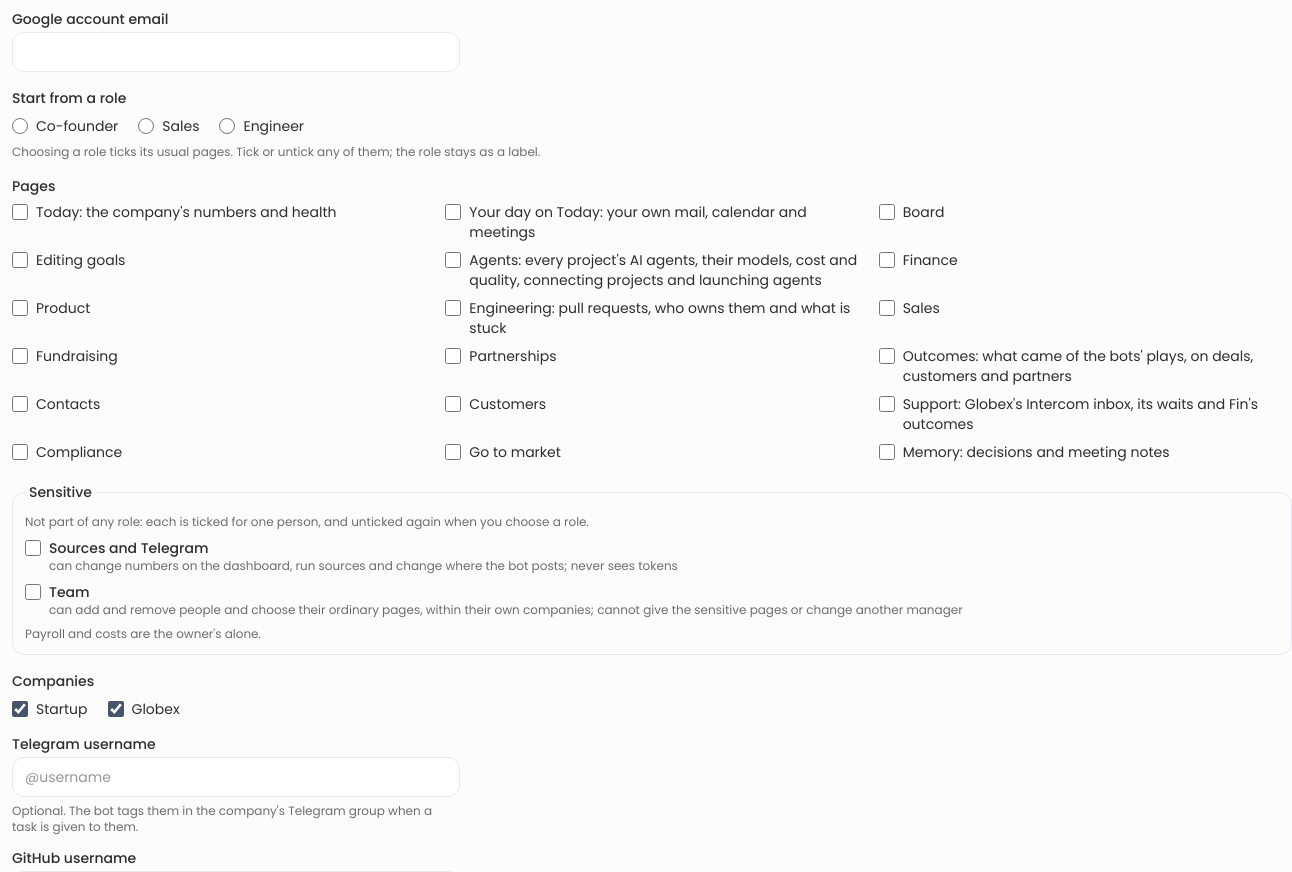
Test: AddTeammate › a ticked page that will be empty for the chosen companies is named, and goes when it no longer is
Click the radio button labelled "Co-founder".
click(20, 126)  # box [12,118,28,134]
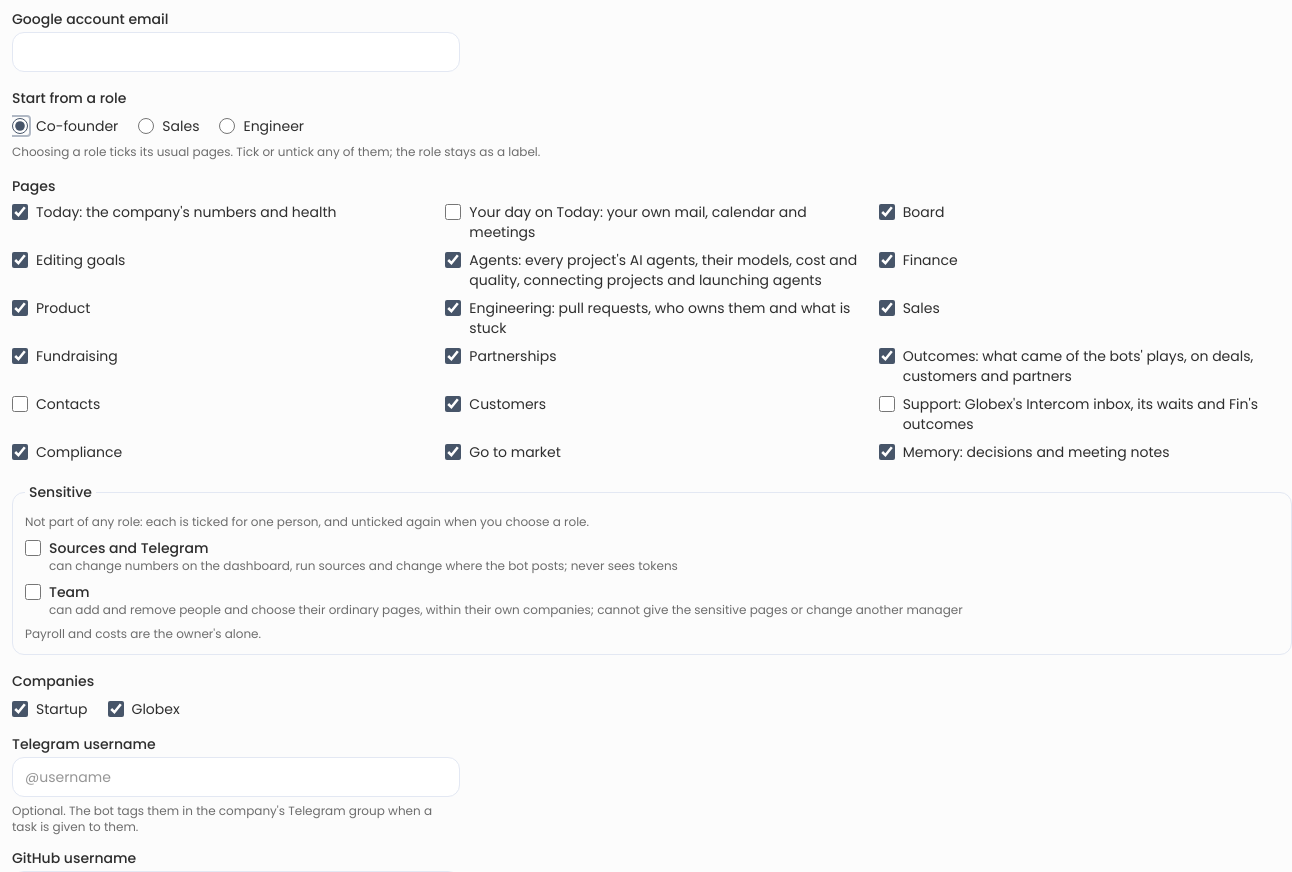
Expected: the text "Empty for someone" is not shown
Click the checkbox labelled "Startup".
click(20, 709)  # box [12,701,28,717]
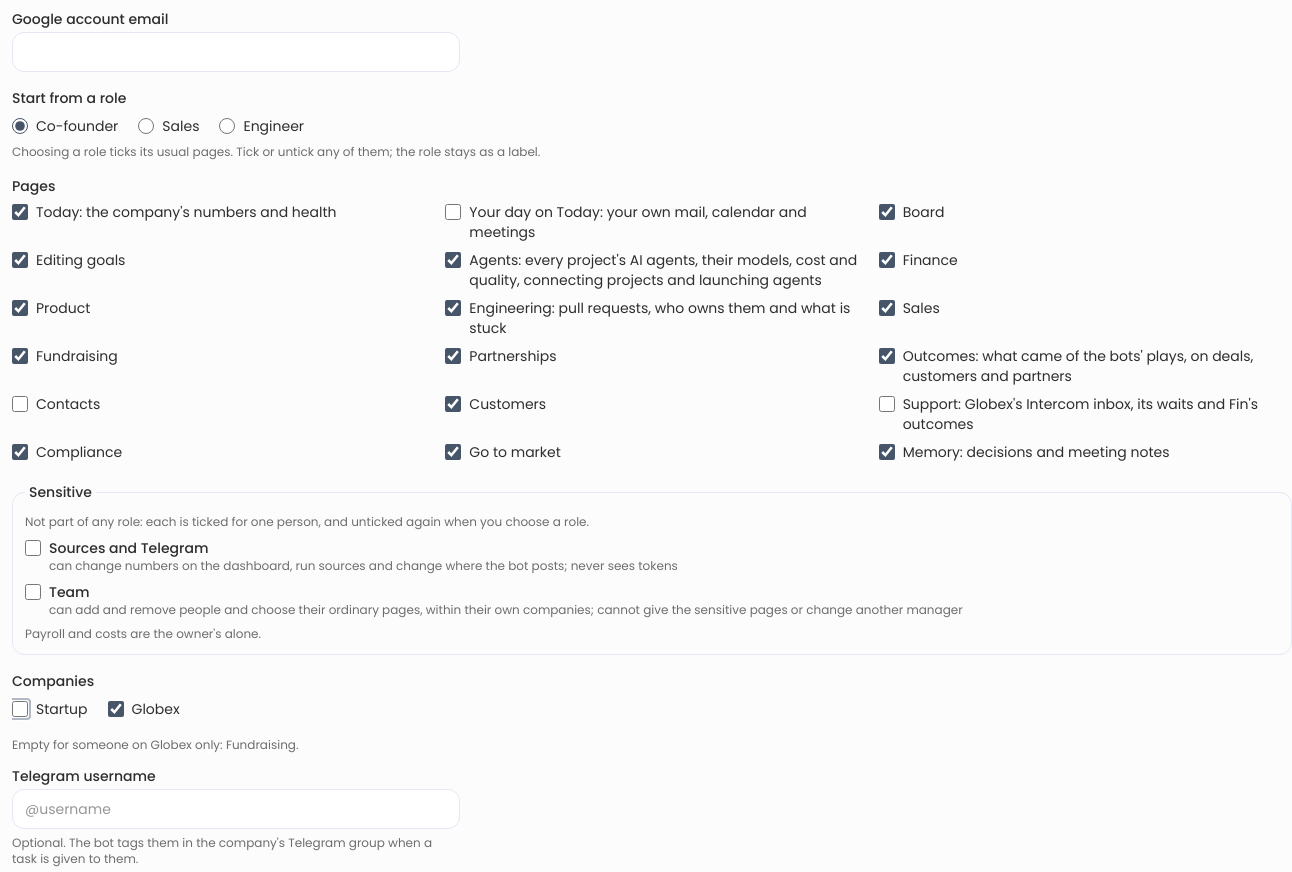
Result: the text "Empty for someone on Globex only: Fundraising." is shown at [12,736,298,753]
Click the checkbox labelled "Fundraising".
click(20, 356)  # box [12,348,28,364]
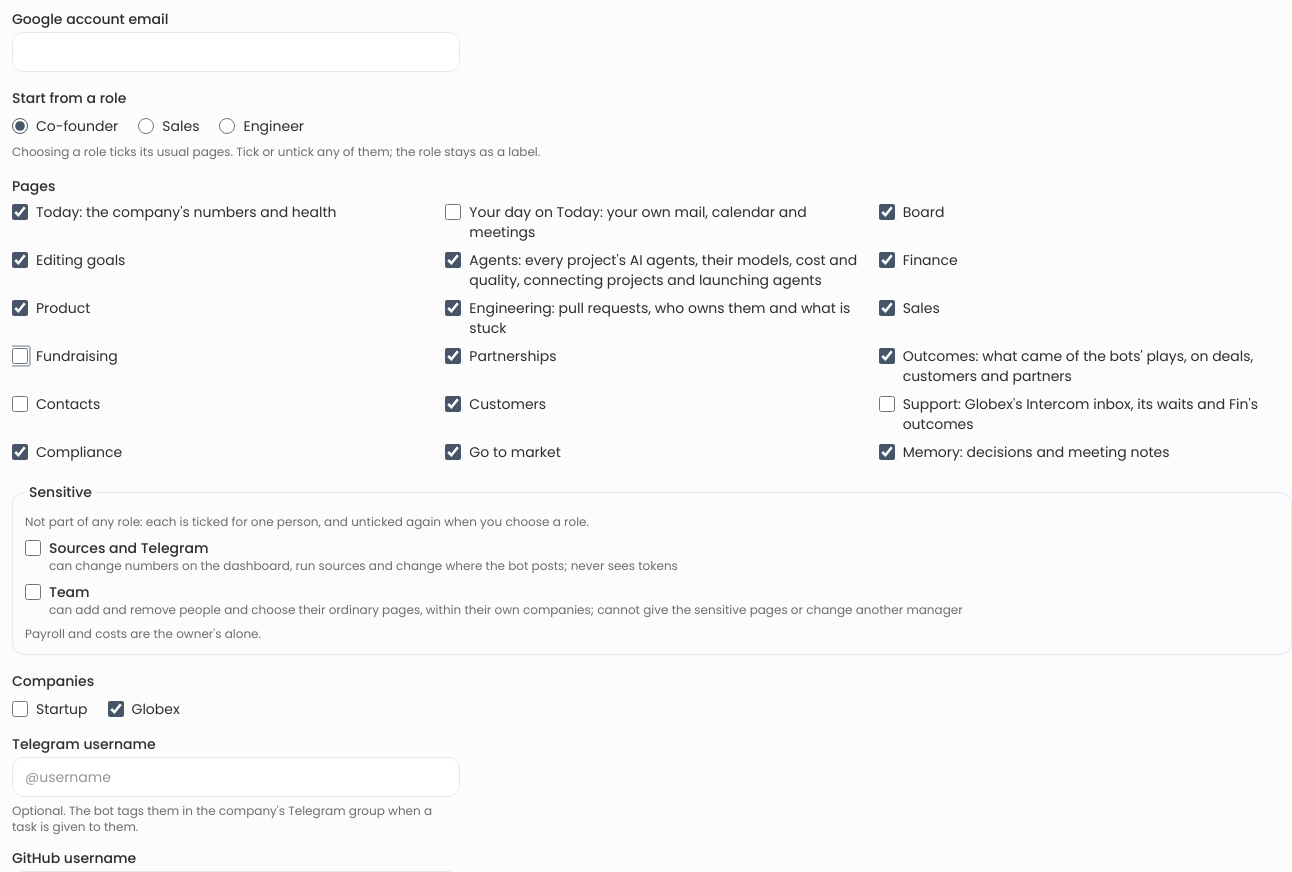
Result: the text "Empty for someone" is gone
Click the checkbox labelled "Fundraising".
click(20, 356)  # box [12,348,28,364]
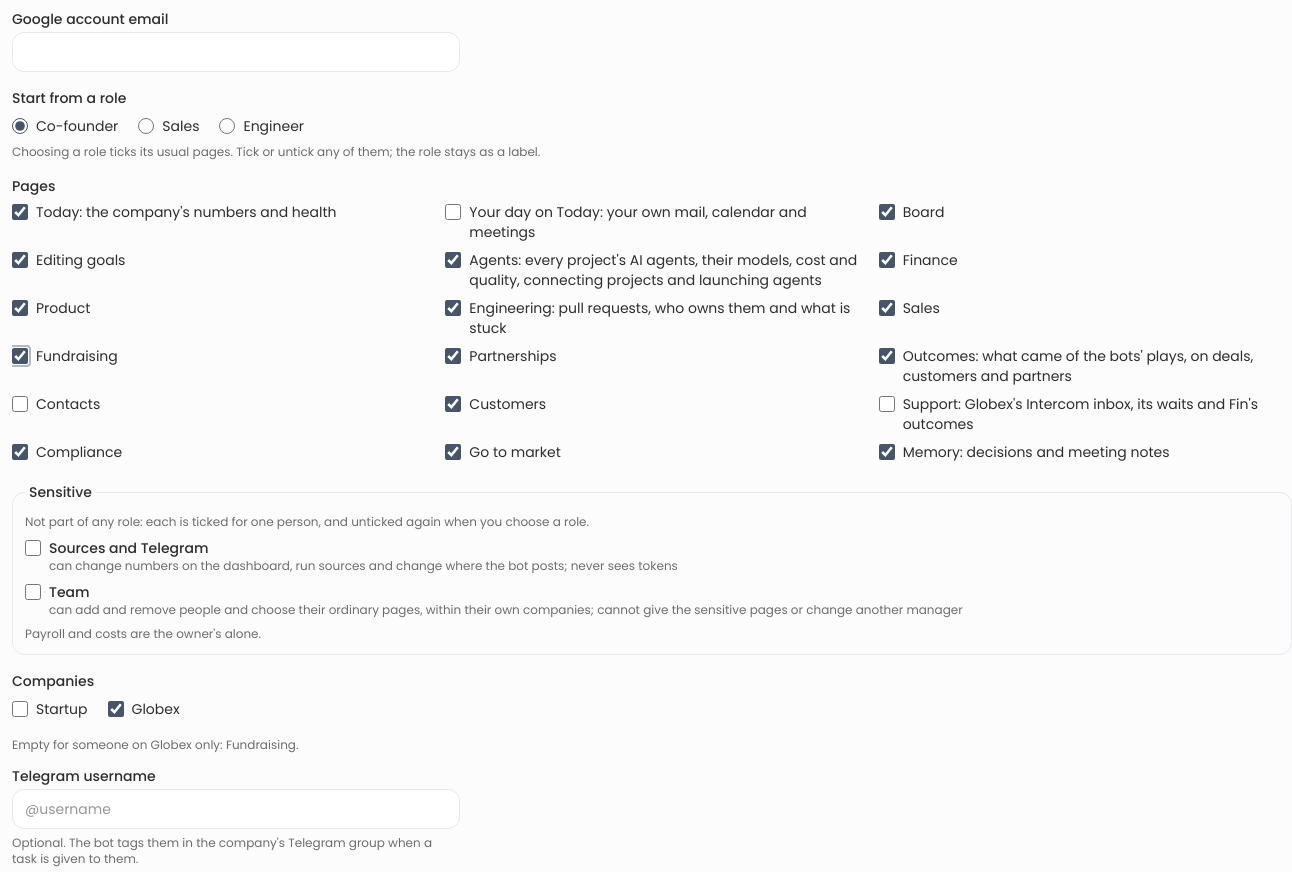
Result: the text "Empty for someone on Globex only: Fundraising." is shown at [12,736,298,753]
Click the checkbox labelled "Startup".
click(20, 709)  # box [12,701,28,717]
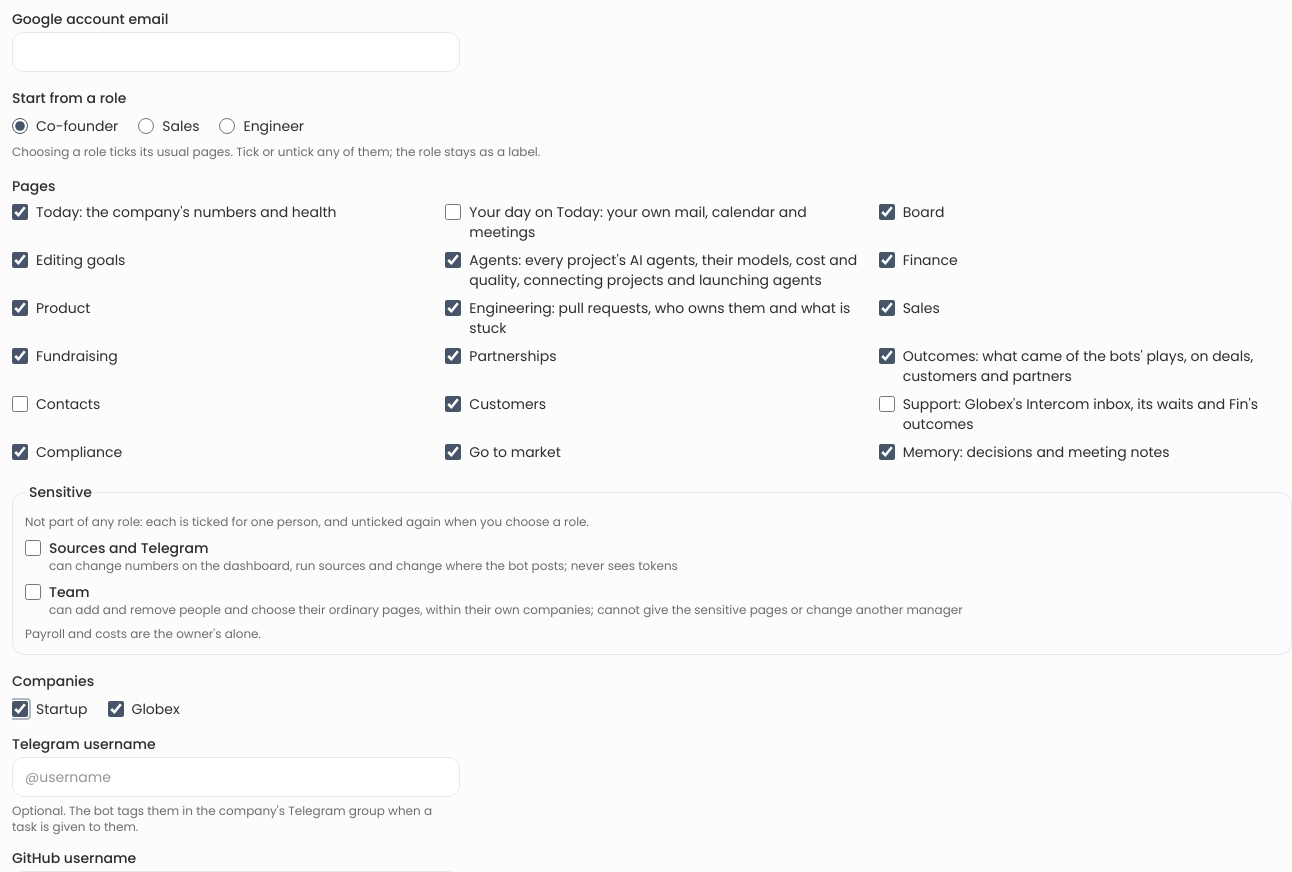
Result: the text "Empty for someone" is gone
